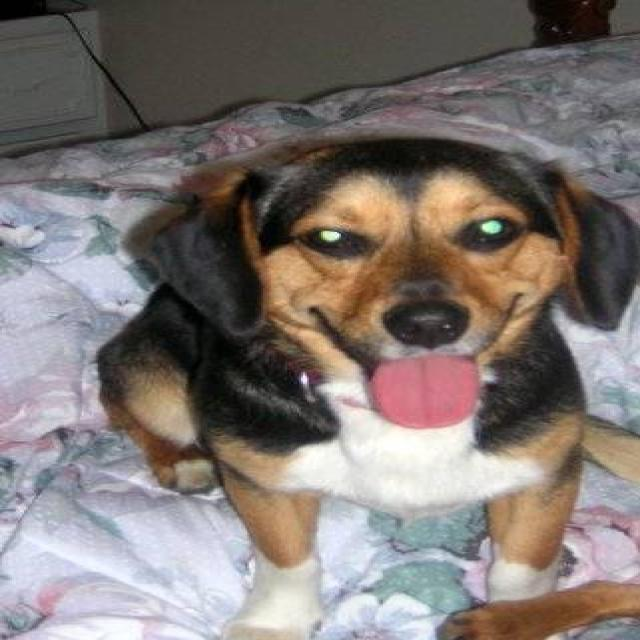dog: (92, 134, 638, 638)
